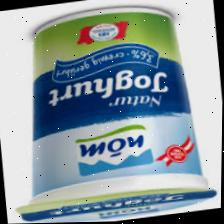plastic: (2, 0, 220, 224)
